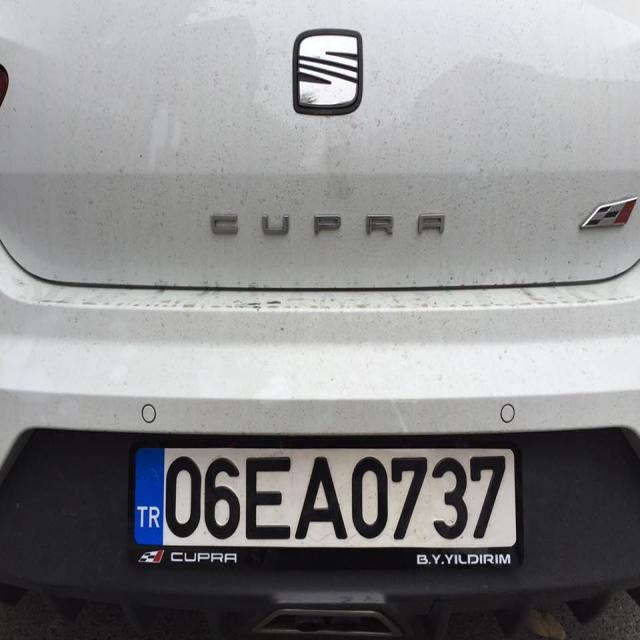plate: (129, 441, 523, 550)
